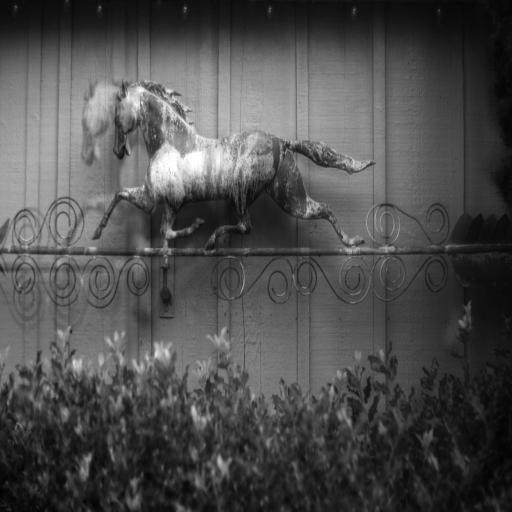Horse: (91, 76, 378, 251)
